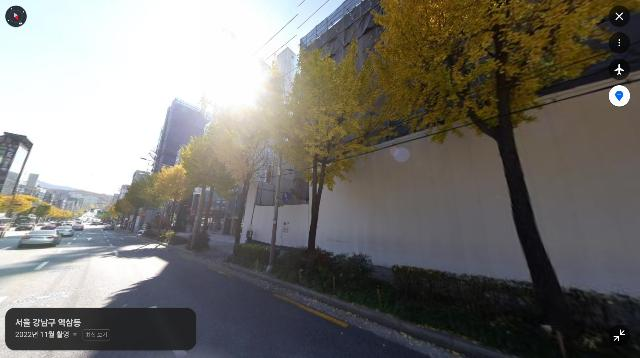ginkgo: (355, 0, 640, 358), (273, 37, 388, 264), (206, 91, 285, 249), (178, 124, 240, 250), (150, 163, 196, 236), (124, 177, 166, 232), (0, 194, 44, 232), (36, 202, 65, 224)
